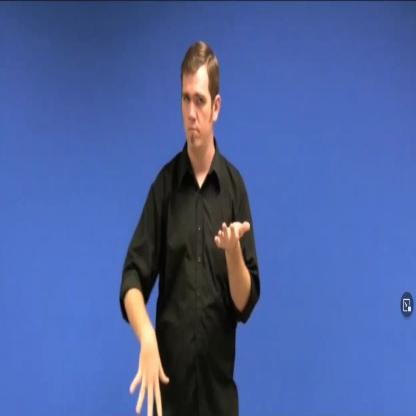Expensive: (125, 191, 255, 412)
